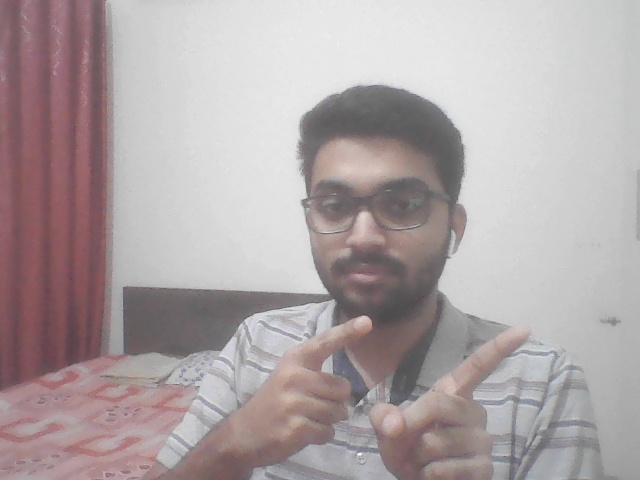go: (209, 306, 559, 469)
